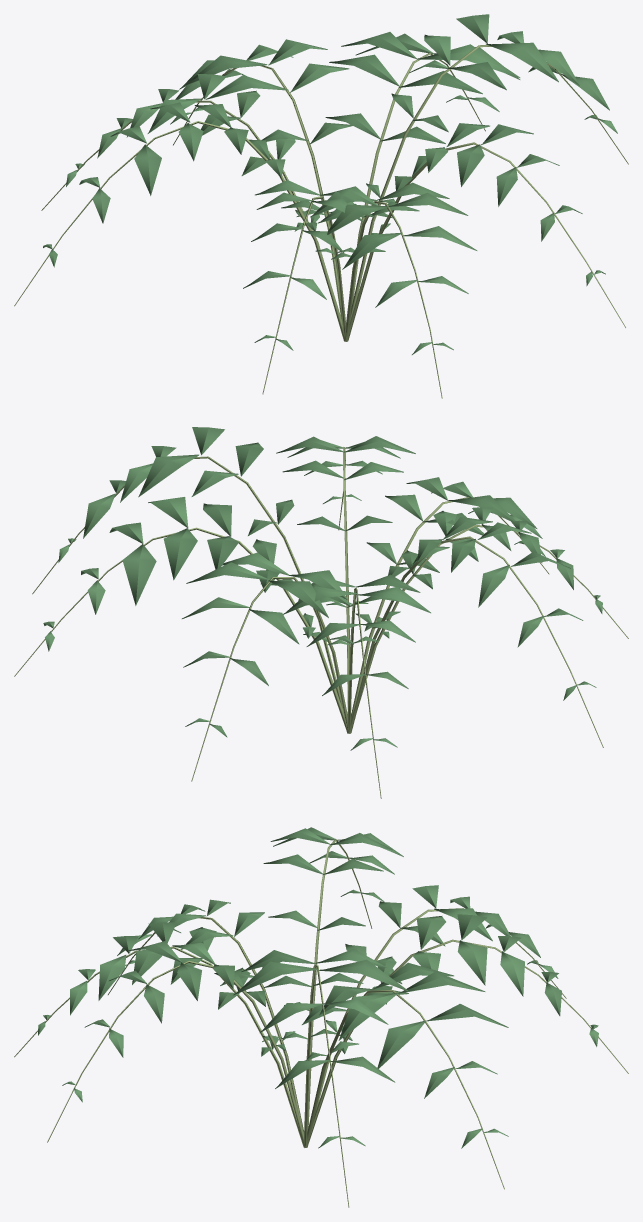
File: woodland_fern_lod2.glb
The picture shows the model from 3 angles, top to bottom: view 1: azimuth 30°, elevation 25°; view 2: azimuth 150°, elevation 25°; view 3: azimuth 270°, elevation 25°; orthographic projection. The views are drawn at different scales.
Visible parts, largest first — view 1: fern_fronds, fern_rachis; view 2: fern_fronds, fern_rachis; view 3: fern_fronds, fern_rachis.
Part boxes in pixels (x1,y1,x2,y2): fern_fronds: (43, 14, 617, 354); fern_rachis: (14, 45, 628, 398); fern_fronds: (43, 427, 602, 750); fern_rachis: (14, 447, 628, 798); fern_fronds: (38, 827, 598, 1148); fern_rachis: (14, 839, 628, 1207).
Bounding box in the file's own units: 1.7 × 0.7168 × 1.56.
